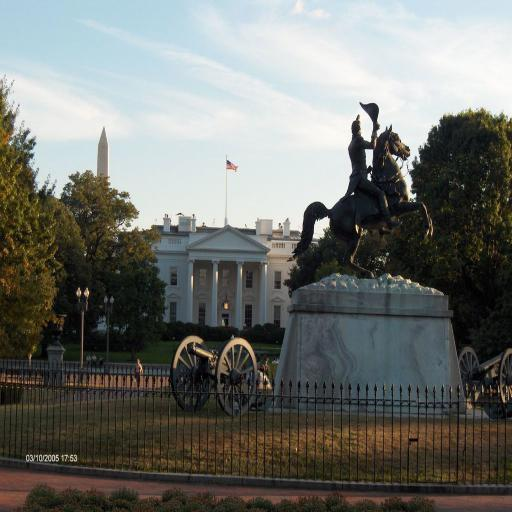horse: (286, 124, 434, 278)
